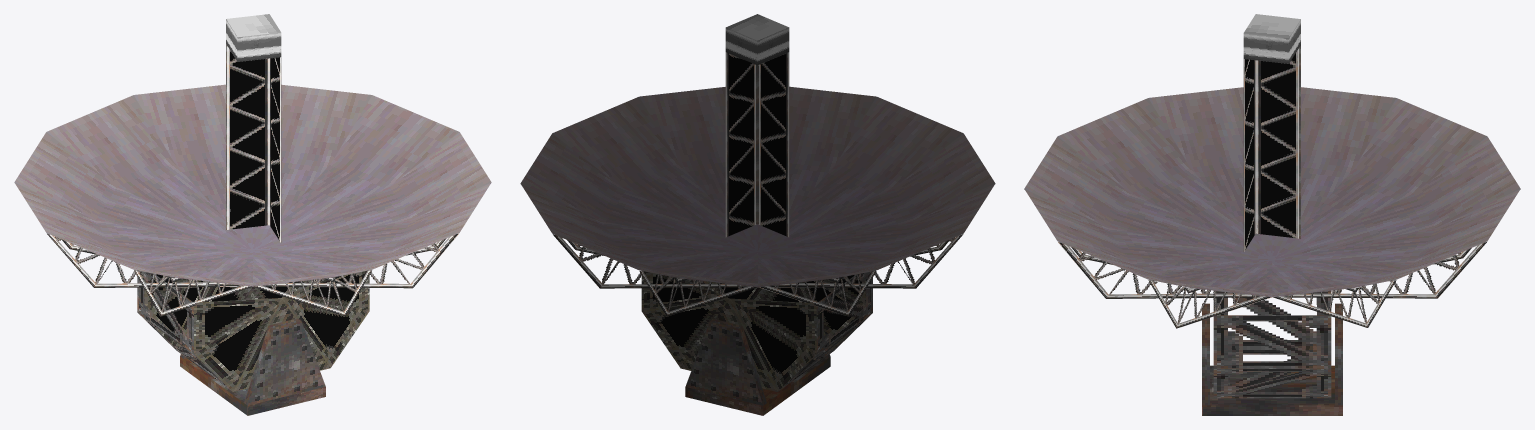
The model's file is PsevdishZ.obj.
The picture shows the model from 3 angles, left to right: view 1: azimuth 30°, elevation 25°; view 2: azimuth 150°, elevation 25°; view 3: azimuth 270°, elevation 25°; orthographic projection. The views are drawn at different scales.
Size of the model in its own units: 14817 by 12542 by 14817.
Materials: 9 (9 with a texture image).
